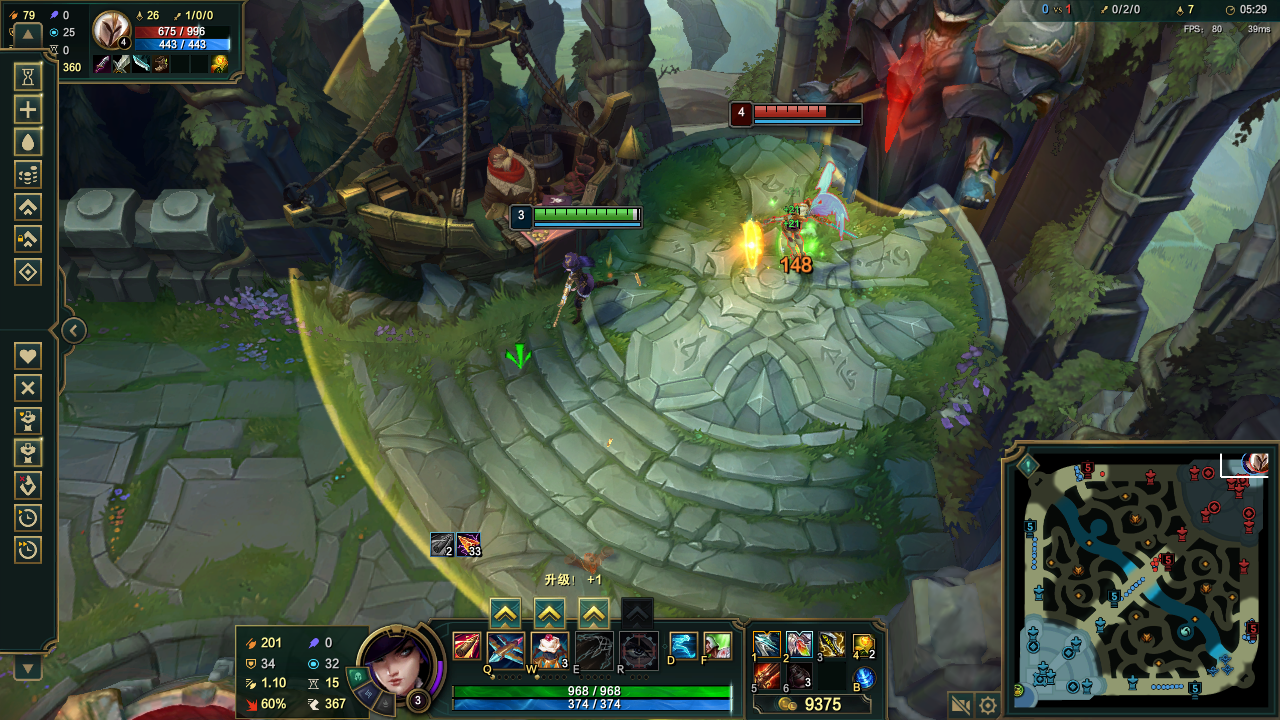DFYX: (751, 99, 872, 113)
